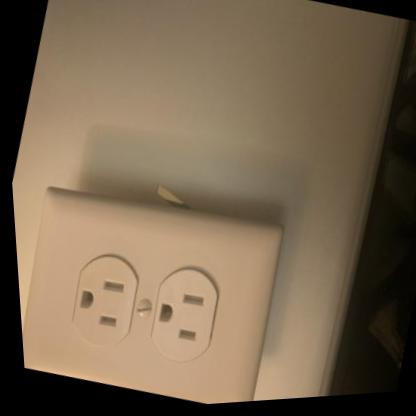OUTLET: (12, 163, 301, 416)
